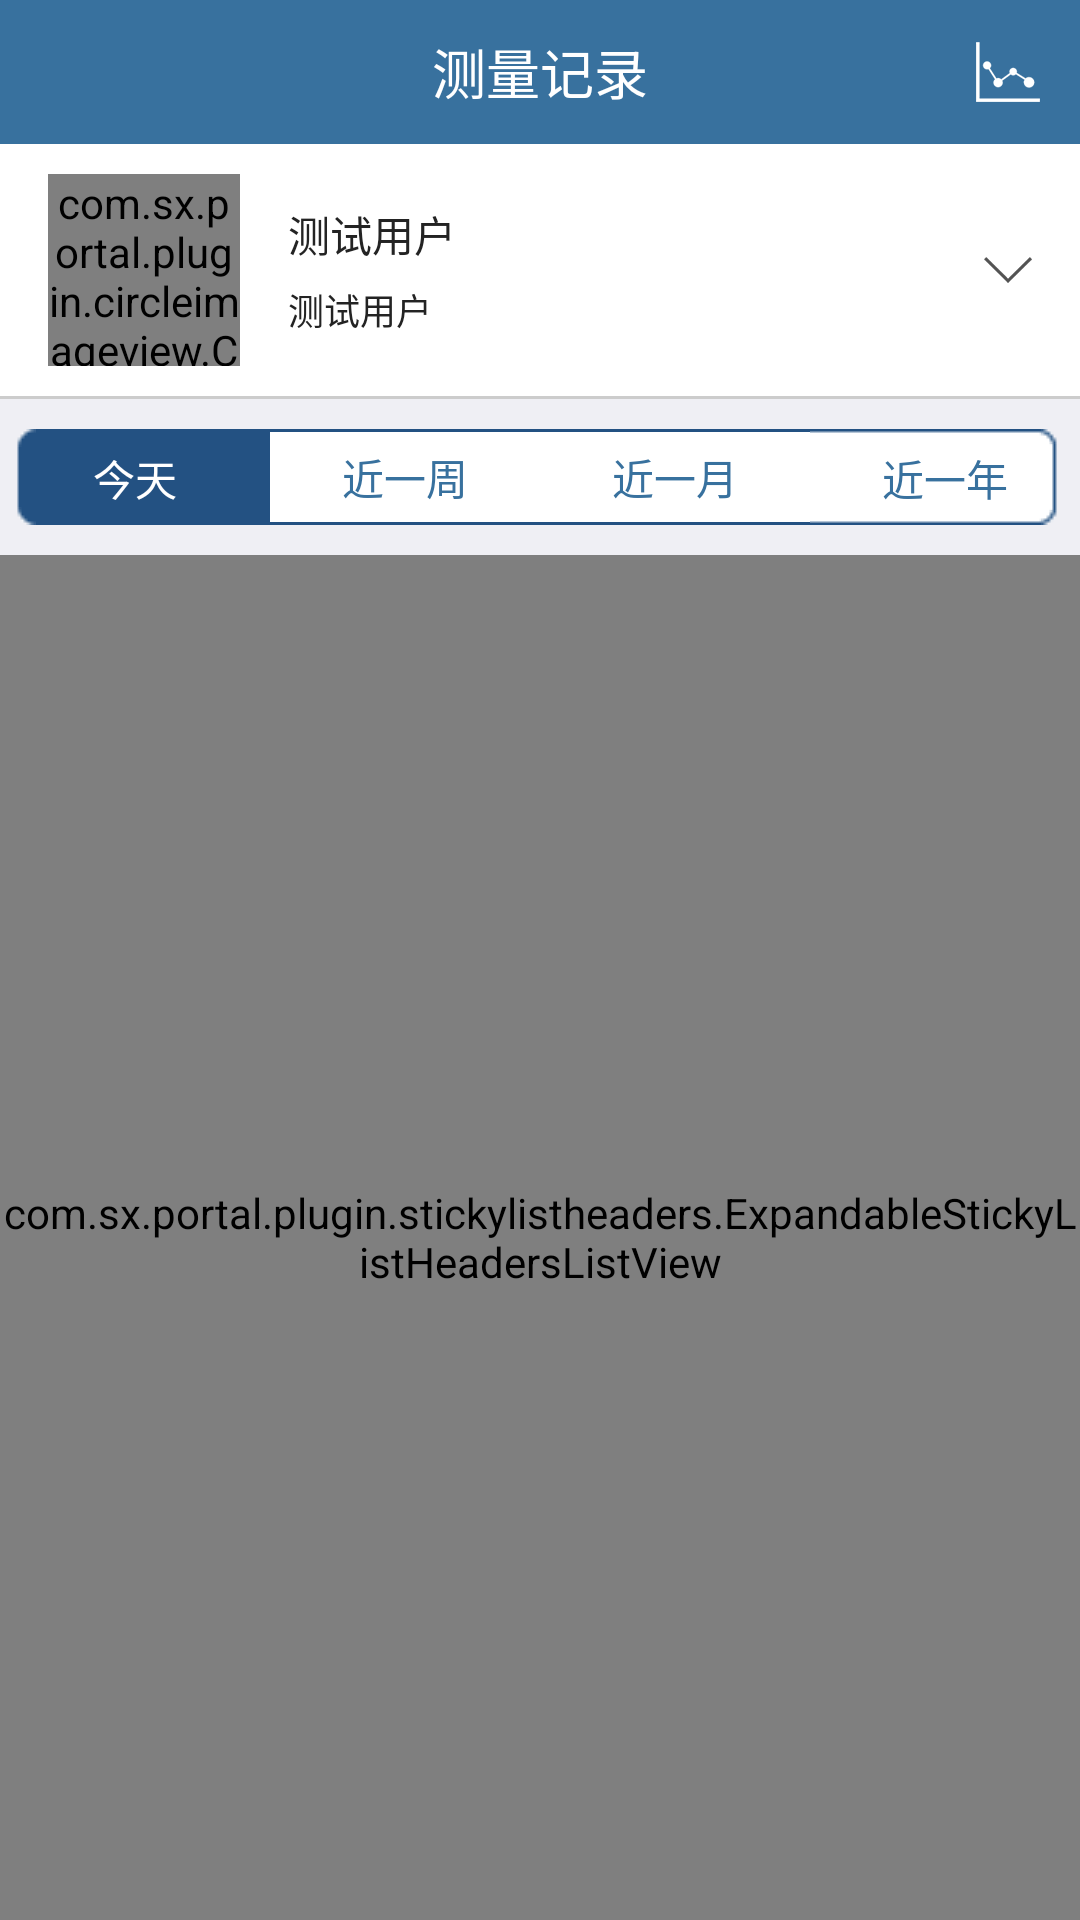

Locate icon controls on the screen. Image size 1080 × 1920, boxes as (x1, y1, x2, y2).
list open: (984, 257, 1032, 283)
measure chart: (976, 42, 1040, 102)
